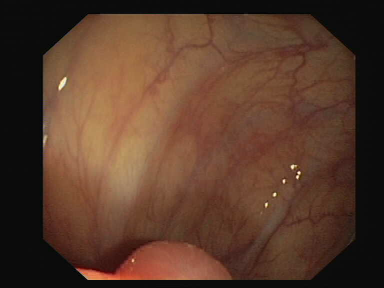polyp: (84, 231, 266, 282)
